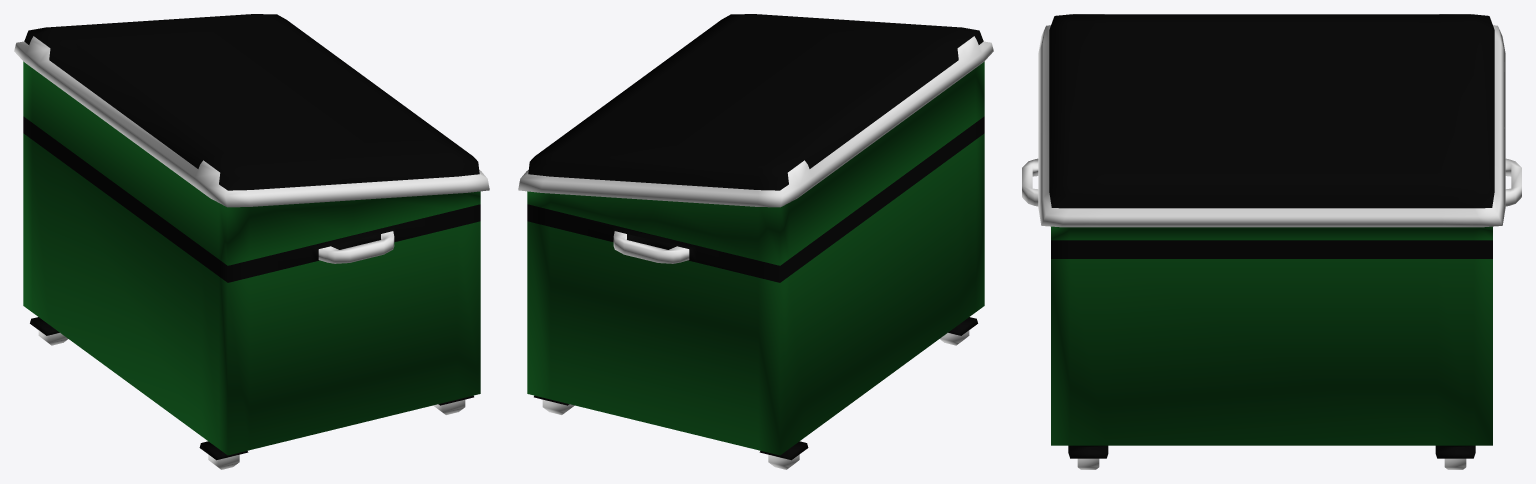
The model's file is LargeTrashContainer.fbx.
3 views of the same model, side by side, from view 1: azimuth 30°, elevation 25°; view 2: azimuth 150°, elevation 25°; view 3: azimuth 270°, elevation 25° (orthographic). The views are drawn at different scales.
Parts seen in each view (by area): view 1: Cube; view 2: Cube; view 3: Cube.
Part boxes in pixels (x1=…): Cube: x1=14, y1=14, x2=489, y2=469; Cube: x1=518, y1=14, x2=993, y2=469; Cube: x1=1022, y1=14, x2=1521, y2=469.
Bounding box in the file's own units: 213 × 231 × 317.
